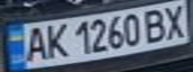0: (121, 10, 145, 47)
1: (69, 18, 93, 55)
2: (87, 16, 109, 53)
6: (106, 13, 127, 51)
A: (21, 24, 48, 62)
B: (139, 6, 172, 44)
K: (42, 20, 69, 60)
X: (160, 2, 193, 39)
